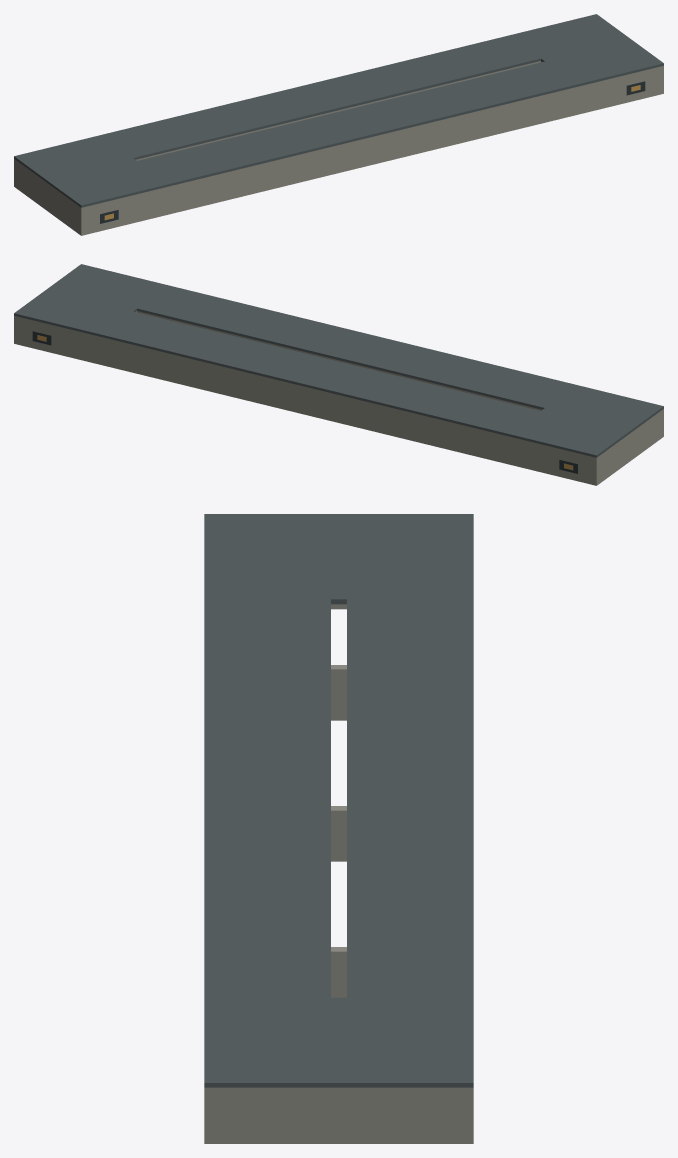
The model's file is BUILT-131.glb.
3 renders of one model, top to bottom at view 1: azimuth 30°, elevation 25°; view 2: azimuth 150°, elevation 25°; view 3: azimuth 270°, elevation 25°, orthographic. The views are drawn at different scales.
Parts seen in each view (by area): view 1: 既有道路实体显示路面; view 2: 既有道路实体显示路面; view 3: 既有道路实体显示路面.
Part boxes in pixels (x1,y1,x2,y2): 既有道路实体显示路面: (14, 14, 663, 235); 既有道路实体显示路面: (14, 264, 663, 485); 既有道路实体显示路面: (204, 514, 473, 1143).
Size of the model in its own units: 10 by 0.5 by 2.
4 materials, 4 textured.
